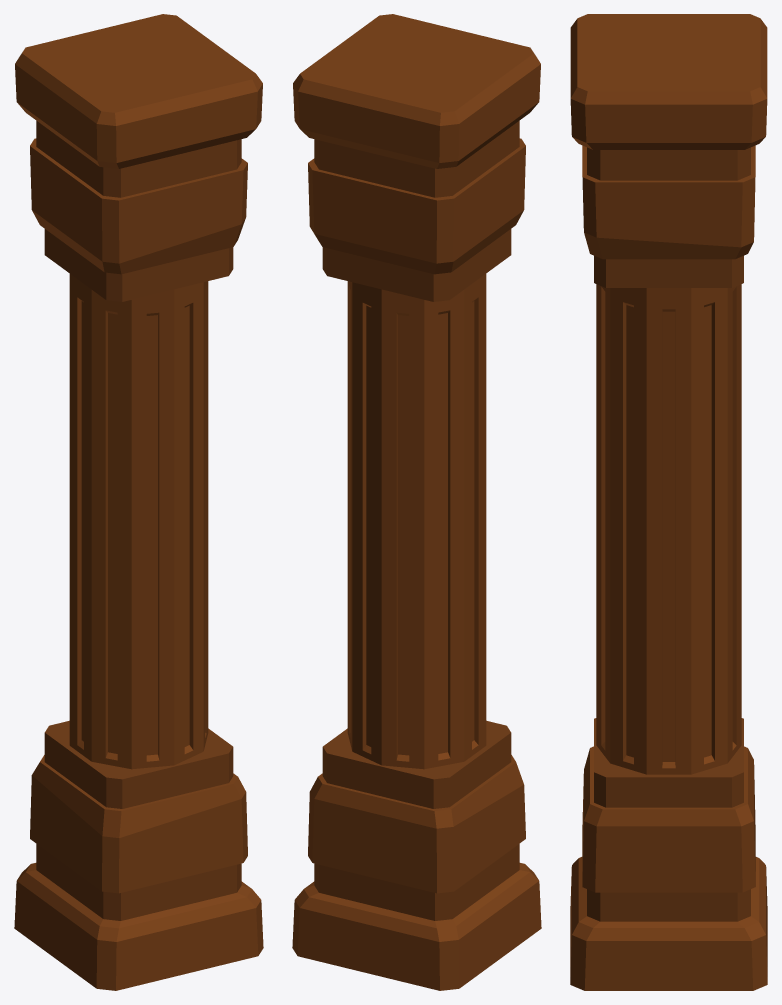
Rendered from 1_column.fbx.
The picture shows the model from 3 angles, left to right: view 1: azimuth 30°, elevation 25°; view 2: azimuth 150°, elevation 25°; view 3: azimuth 270°, elevation 25°; orthographic projection. The views are drawn at different scales.
Parts seen in each view (by area): view 1: Column2; view 2: Column2; view 3: Column2.
Part boxes in pixels (bbox=[...]): Column2: bbox=[14, 14, 263, 990]; Column2: bbox=[292, 14, 541, 990]; Column2: bbox=[570, 14, 767, 990].
Size of the model in its own units: 99.77 by 500 by 99.77.
